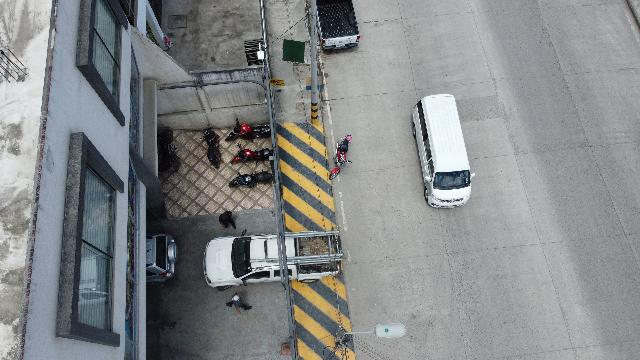Vehiculo: (202, 231, 346, 289), (412, 94, 472, 208), (316, 0, 360, 50), (146, 234, 178, 284)
